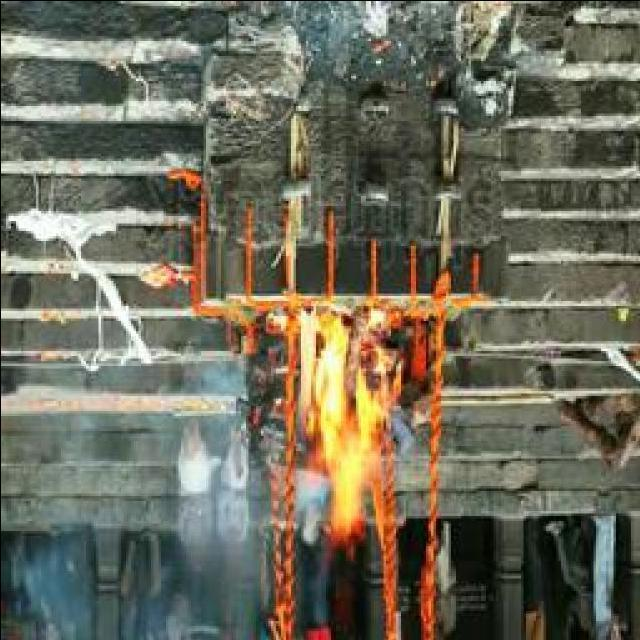Fire: (289, 305, 396, 549)
